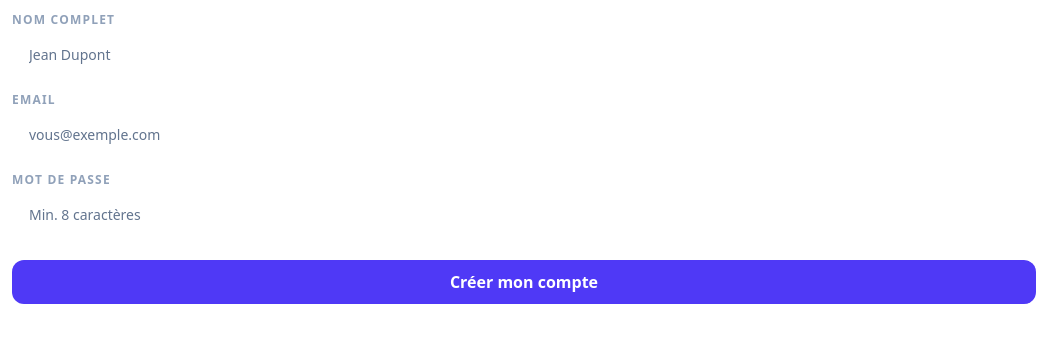
Test: RegisterForm › affiche une erreur si le nom est trop court
Step 1. Type "A" into the field with placeholder "Jean Dupont" → (524, 55), box [12,34,1036,76]
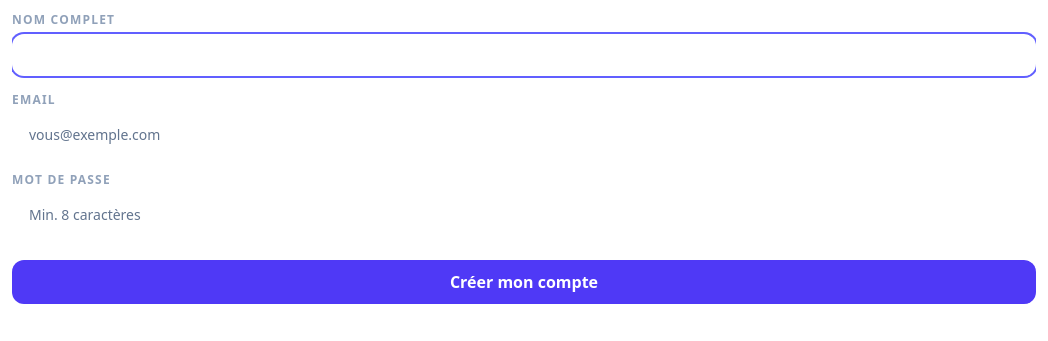
Step 2. Type "jean@test.com" into the field with placeholder "vous@exemple.com" → (524, 135), box [12,114,1036,156]
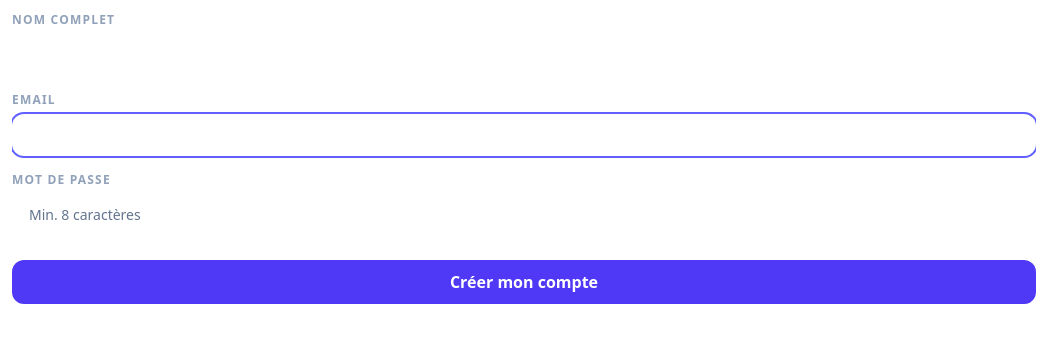
Step 3. Type "motdepasse123" into the password field with placeholder "Min. 8 caractères" → (524, 215), box [12,194,1036,236]
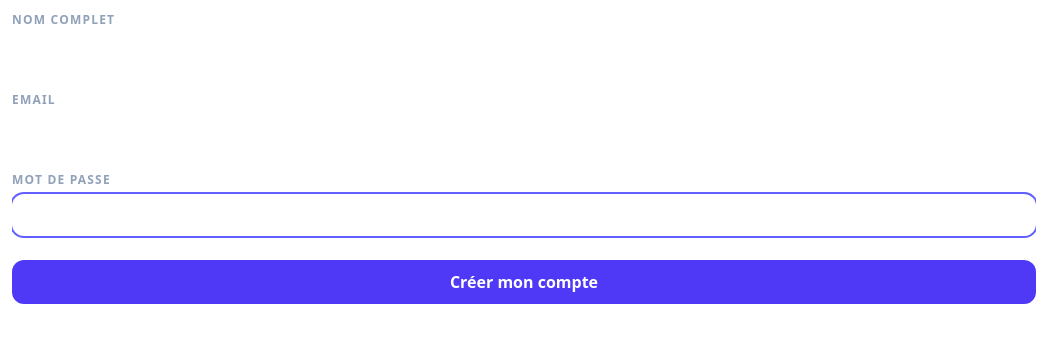
Step 4. Click the button "Créer mon compte" → (524, 282), box [12,260,1036,304]
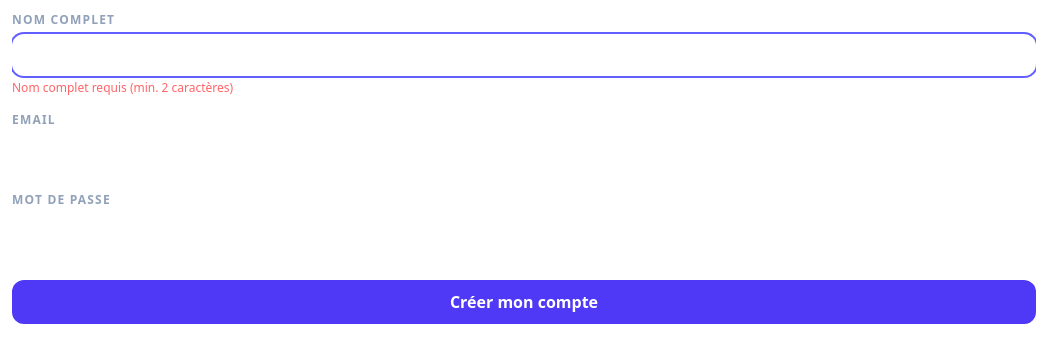
Now the text "Nom complet requis (min. 2 caractères)" is shown, box [12,79,233,96]
